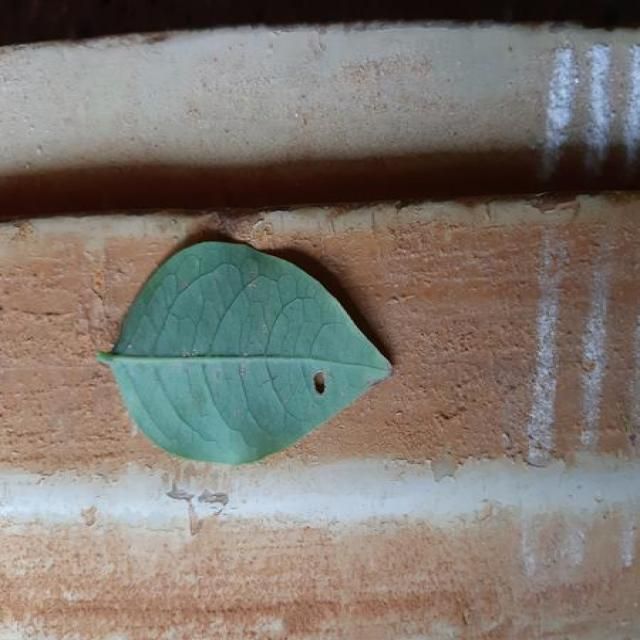amla: (98, 241, 392, 463)
defectedamla: (312, 370, 327, 394)
